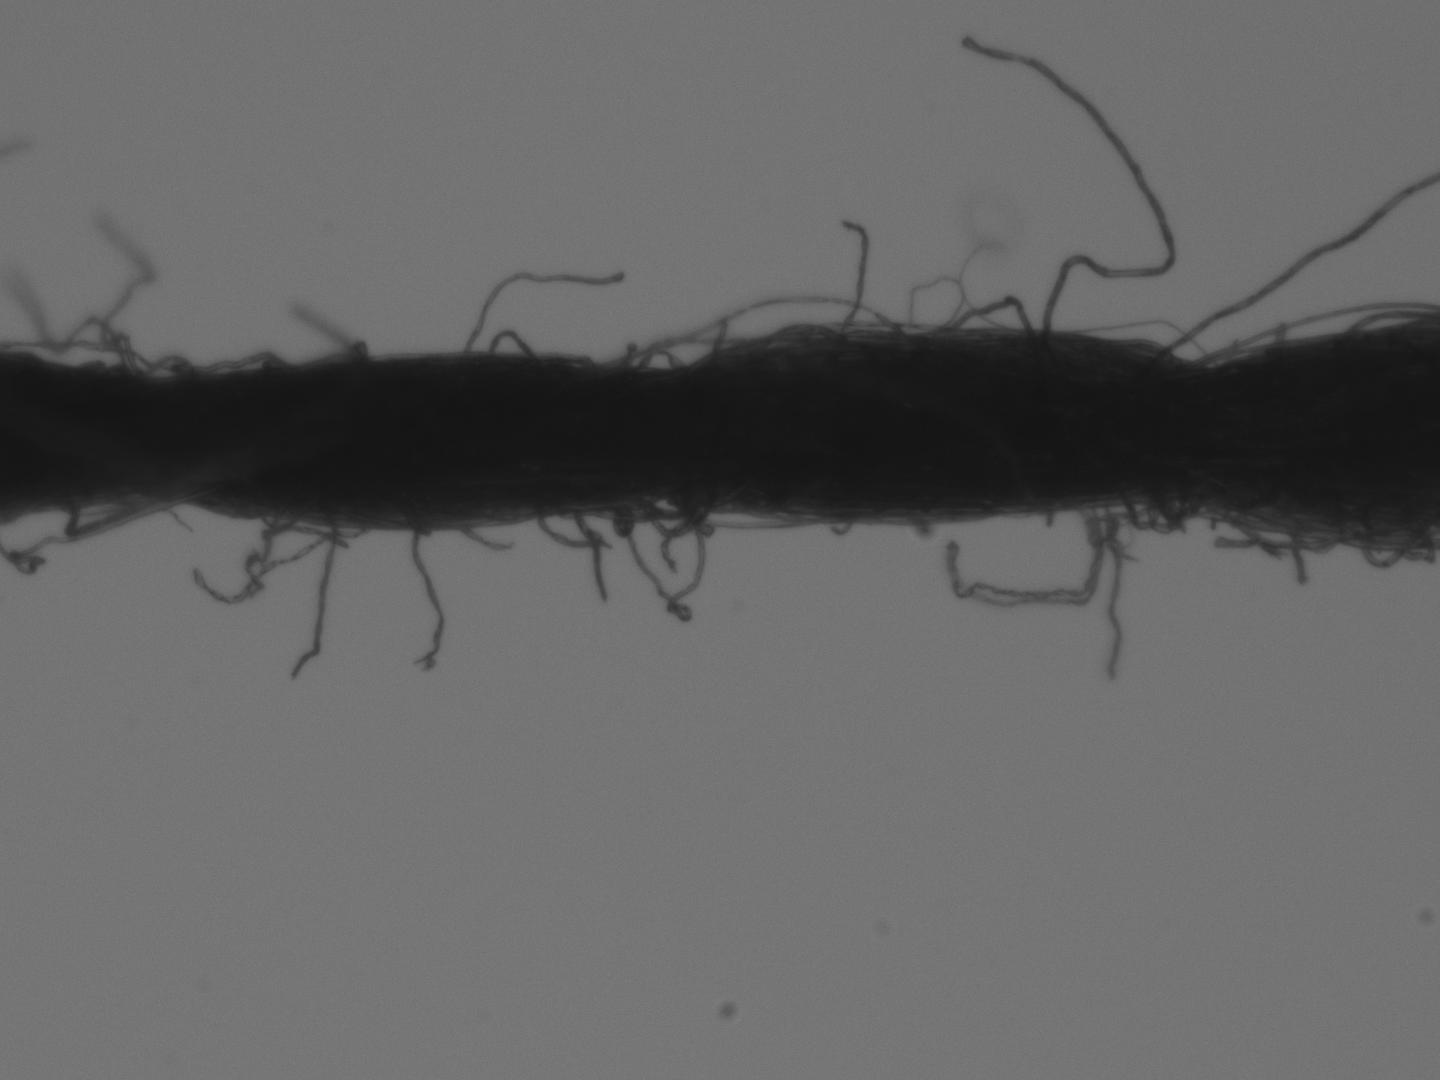loop_fiber: (630, 293, 898, 370), (607, 491, 708, 622), (1058, 315, 1221, 366), (60, 493, 180, 540), (927, 295, 1036, 339), (1217, 516, 1329, 554), (742, 318, 852, 355), (635, 498, 722, 540), (1350, 305, 1434, 338), (1359, 531, 1415, 568), (485, 328, 539, 358), (1121, 496, 1164, 531), (248, 506, 298, 534), (1149, 498, 1202, 524), (639, 496, 697, 520), (634, 347, 685, 371)
protruding_fiber: (967, 32, 1176, 338), (459, 268, 627, 358), (289, 523, 336, 681), (409, 526, 446, 672), (832, 216, 870, 339), (570, 513, 610, 608), (455, 522, 518, 552)
